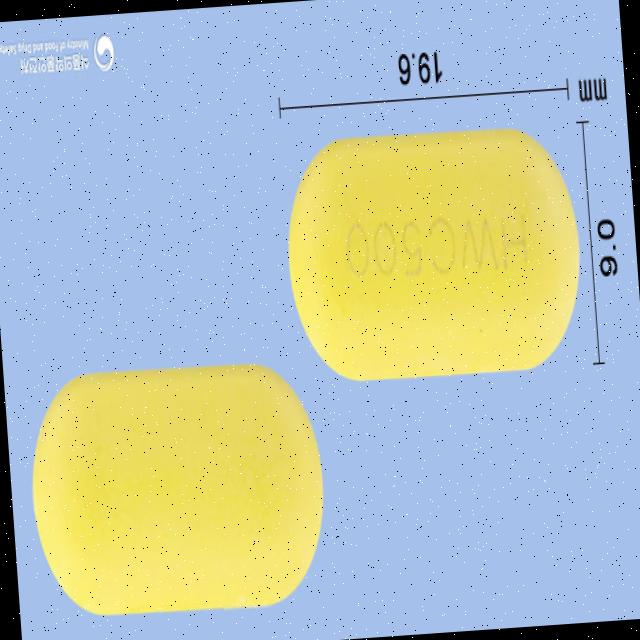Clacid: (272, 111, 591, 398)
